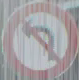Don't turn left: (4, 4, 69, 67)
